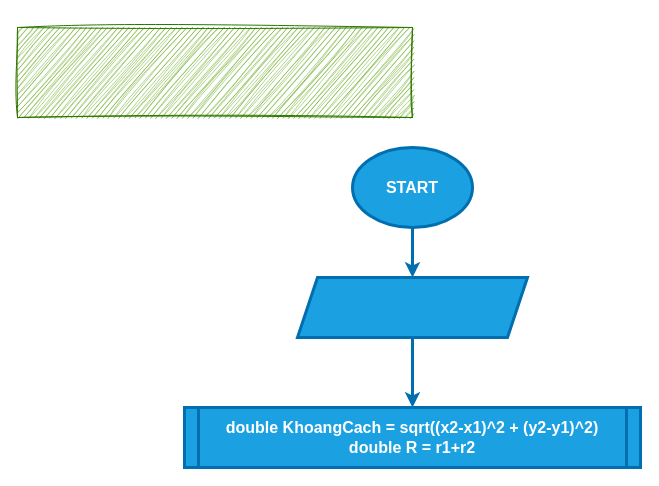
This 659x486 diagram has some shape labels left out. The centre of each missing label's shape, as x and y in pixels:
"INPUT double x1,x2, y1, y2 double r1, r2" goes at [412,307].
"Prototype BaiTap_5_2 Int SoDIemCatNhau(double x1, x2 ,y1, y2)" goes at [214,72].
